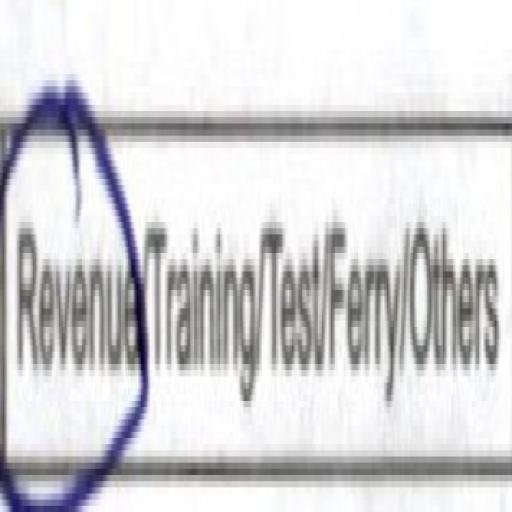check: (0, 37, 142, 506)
